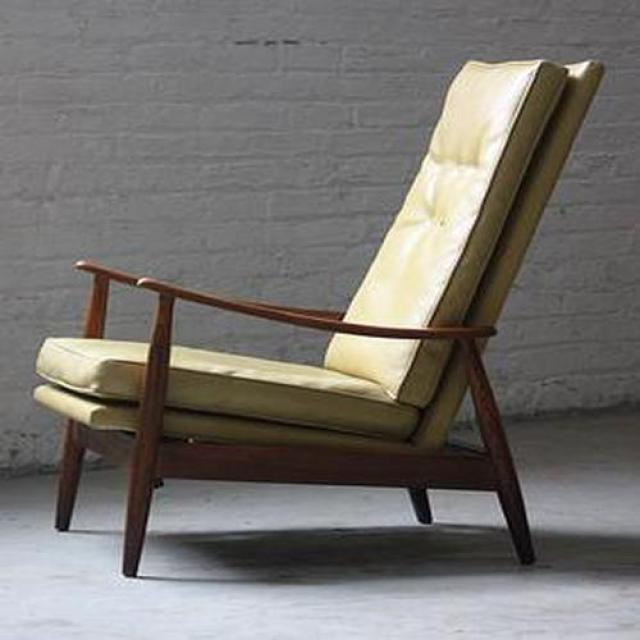chair: (32, 63, 603, 580)
